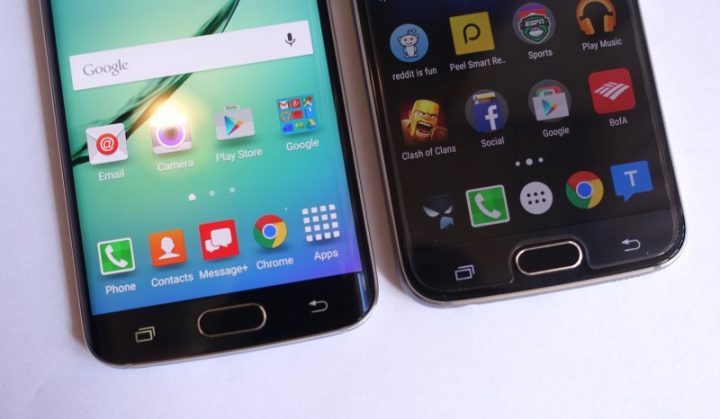Cell Phone: (41, 2, 362, 361), (348, 1, 688, 308)
